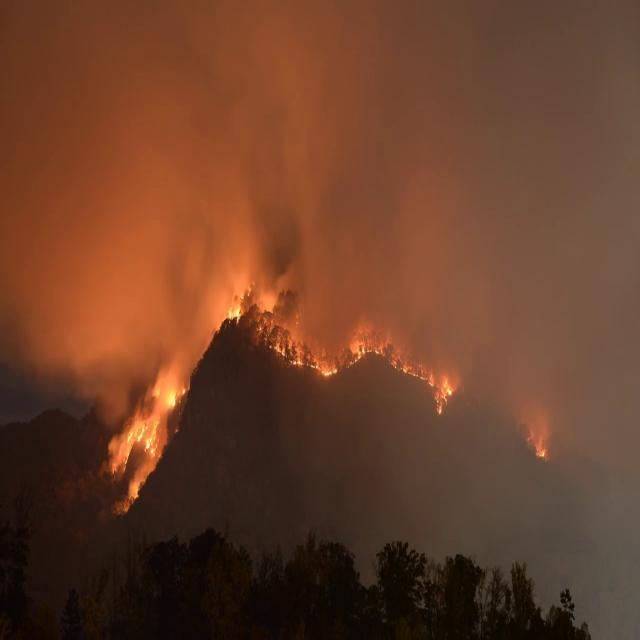Fire: (106, 420, 164, 512), (270, 340, 338, 378), (391, 356, 435, 388), (342, 338, 386, 368), (228, 276, 254, 326), (435, 378, 453, 414), (168, 384, 190, 410), (536, 441, 547, 462)
